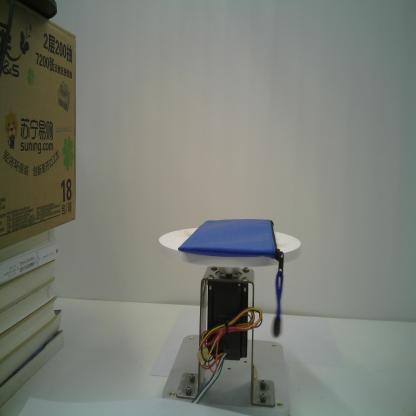Stationery: (176, 217, 286, 338)
